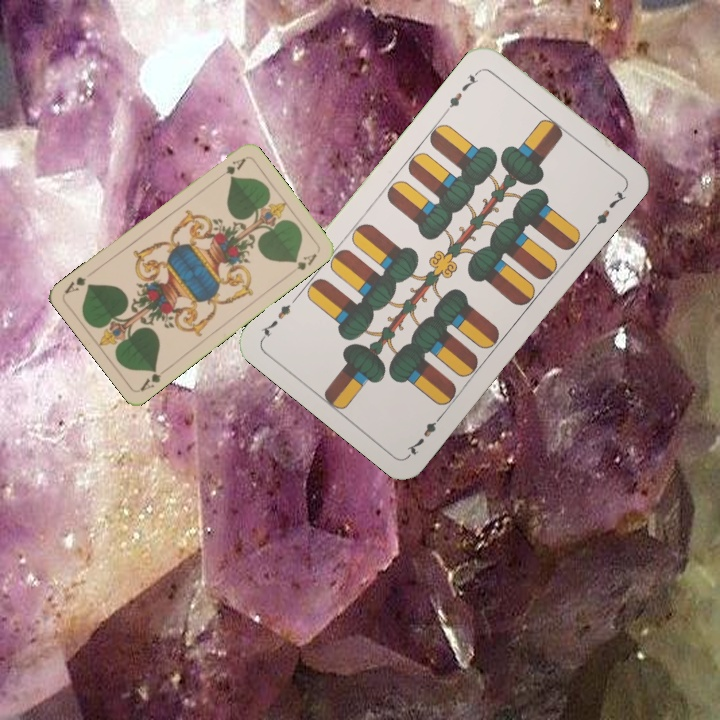E7: (402, 409, 446, 459), (441, 66, 484, 116)
GA: (136, 364, 170, 394), (212, 154, 248, 181)
